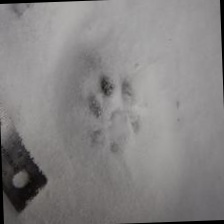raccoon: (57, 56, 158, 209)
